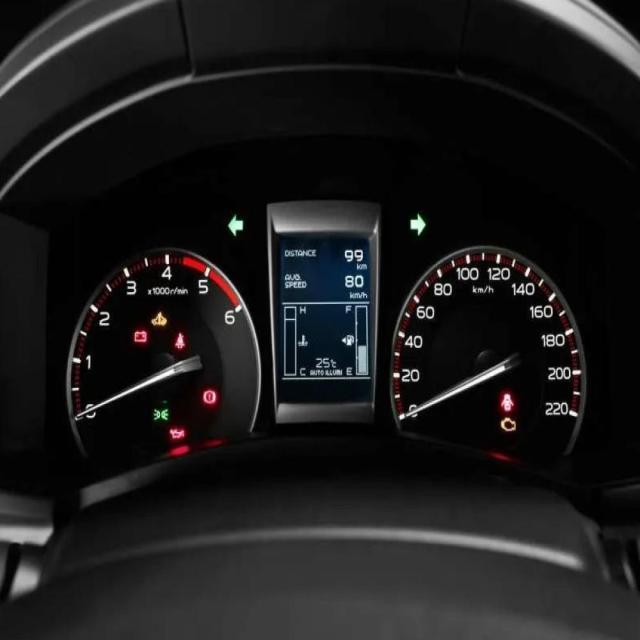Seat Belt: (174, 332, 185, 350)
